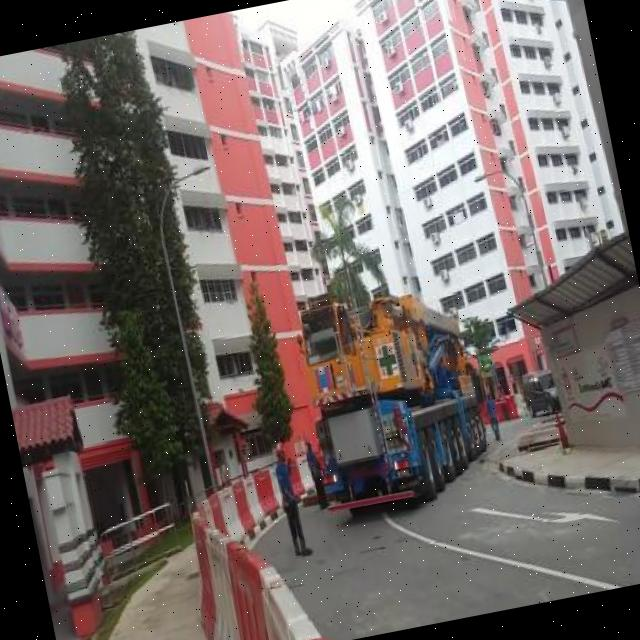Mobile Crane: (295, 276, 494, 524)
